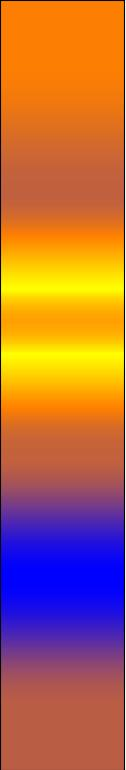Thermal Runaway: (14, 228, 115, 420), (9, 5, 120, 116)
critical: (14, 655, 111, 765), (8, 128, 116, 214), (10, 434, 114, 506)
safe: (15, 516, 111, 645)
